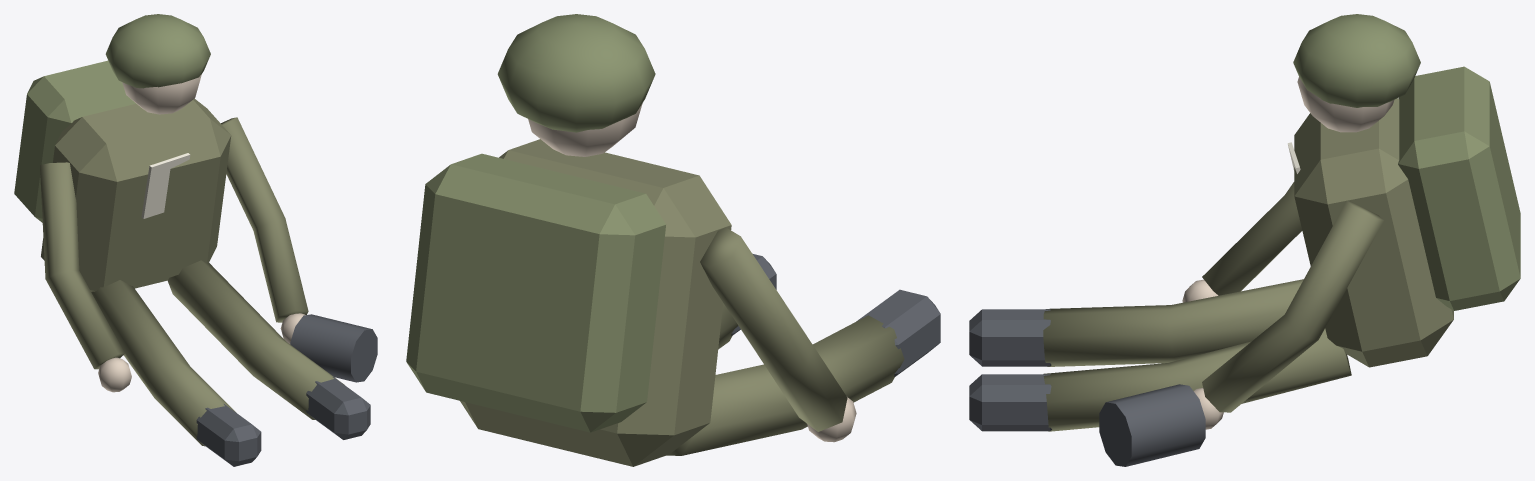
File: dead_scavenger.glb
3 views of the same model, side by side, from view 1: azimuth 30°, elevation 25°; view 2: azimuth 150°, elevation 25°; view 3: azimuth 270°, elevation 25° (orthographic). The views are drawn at different scales.
Parts seen in each view (by area): view 1: dead_scavenger; view 2: dead_scavenger; view 3: dead_scavenger.
Boxes of the visible parts, x1=… form: dead_scavenger: x1=14, y1=14, x2=377, y2=466; dead_scavenger: x1=406, y1=14, x2=940, y2=466; dead_scavenger: x1=969, y1=14, x2=1520, y2=466.
Size of the model in its own units: 0.8527 by 0.9931 by 1.29.
